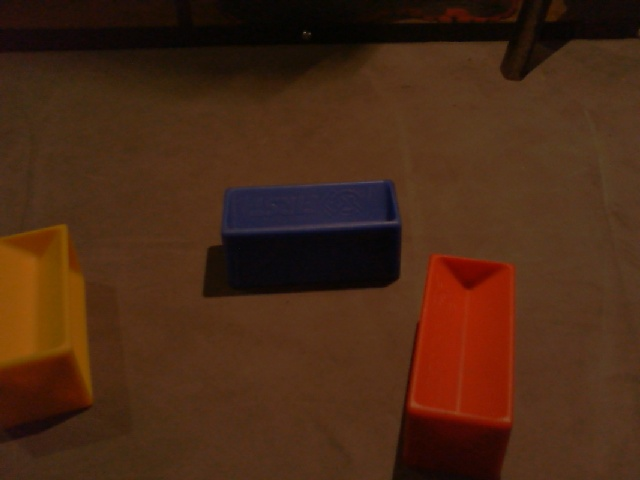BlueSample: (220, 178, 404, 285)
RedSample: (398, 252, 517, 477)
YellowSample: (1, 223, 94, 424)
